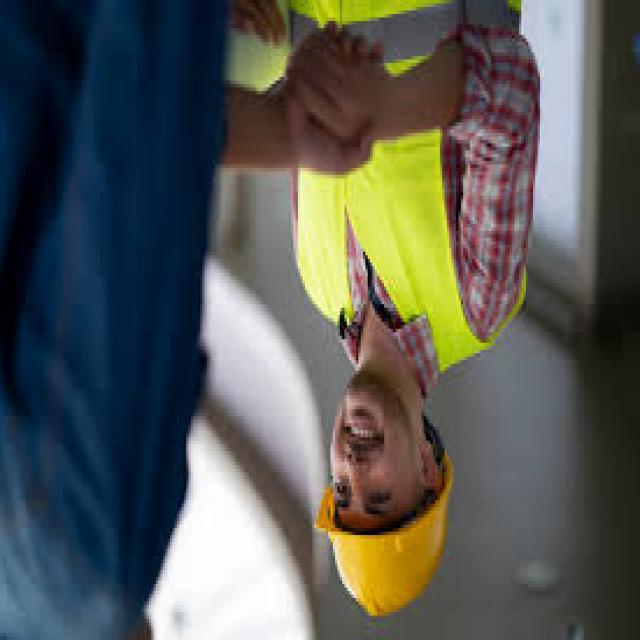safetyhelmet: (310, 408, 456, 617)
